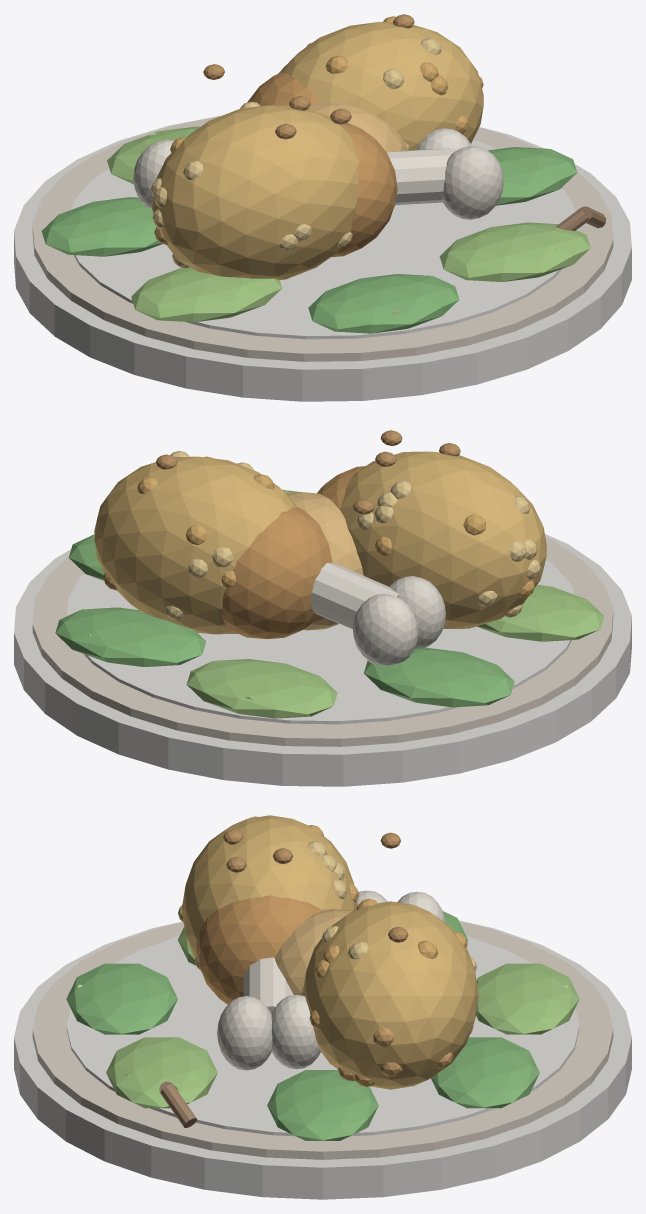
The model's file is ga_nguvi.glb.
3 renders of one model, top to bottom at view 1: azimuth 30°, elevation 25°; view 2: azimuth 150°, elevation 25°; view 3: azimuth 270°, elevation 25°, orthographic.
Parts seen in each view (by area): view 1: obj_0000, obj_0017, obj_0002, obj_0001, obj_0045, obj_0007, obj_0005, obj_0009, obj_0011, obj_0018, obj_0021, obj_0003 (+6 smaller); view 2: obj_0000, obj_0017, obj_0045, obj_0001, obj_0002, obj_0046, obj_0013, obj_0015, obj_0011, obj_0009, obj_0048, obj_0047 (+4 smaller); view 3: obj_0000, obj_0001, obj_0045, obj_0002, obj_0017, obj_0018, obj_0007, obj_0013, obj_0003, obj_0005, obj_0015, obj_0021 (+5 smaller).
Boxes of the visible parts, x1,y1,x2,y2 form: obj_0000: (14, 115, 631, 401); obj_0017: (152, 105, 358, 279); obj_0002: (71, 140, 578, 339); obj_0001: (32, 116, 613, 361); obj_0045: (278, 22, 483, 150); obj_0007: (308, 274, 459, 333); obj_0005: (439, 222, 590, 281); obj_0009: (131, 267, 282, 322); obj_0011: (41, 197, 162, 256); obj_0018: (331, 123, 397, 257); obj_0021: (442, 146, 503, 219); obj_0003: (488, 147, 577, 205); obj_0000: (14, 534, 631, 786); obj_0017: (340, 451, 546, 628); obj_0045: (94, 456, 296, 634); obj_0001: (32, 537, 613, 746); obj_0002: (67, 560, 574, 724); obj_0046: (222, 507, 332, 639); obj_0013: (186, 659, 337, 718); obj_0015: (55, 607, 206, 666); obj_0011: (363, 647, 514, 707); obj_0009: (476, 585, 604, 641); obj_0048: (353, 593, 418, 665); obj_0047: (310, 563, 399, 629); obj_0000: (14, 920, 631, 1199); obj_0001: (32, 921, 613, 1159); obj_0045: (302, 901, 478, 1089); obj_0002: (66, 936, 579, 1136); obj_0017: (182, 815, 357, 958); obj_0018: (196, 895, 322, 1004); obj_0007: (66, 963, 177, 1034); obj_0013: (476, 963, 579, 1034); obj_0003: (267, 1070, 378, 1140); obj_0005: (106, 1037, 217, 1108); obj_0015: (431, 1037, 539, 1108); obj_0021: (217, 996, 272, 1070).
Size of the model in its own units: 2.1 by 0.745 by 2.1.
